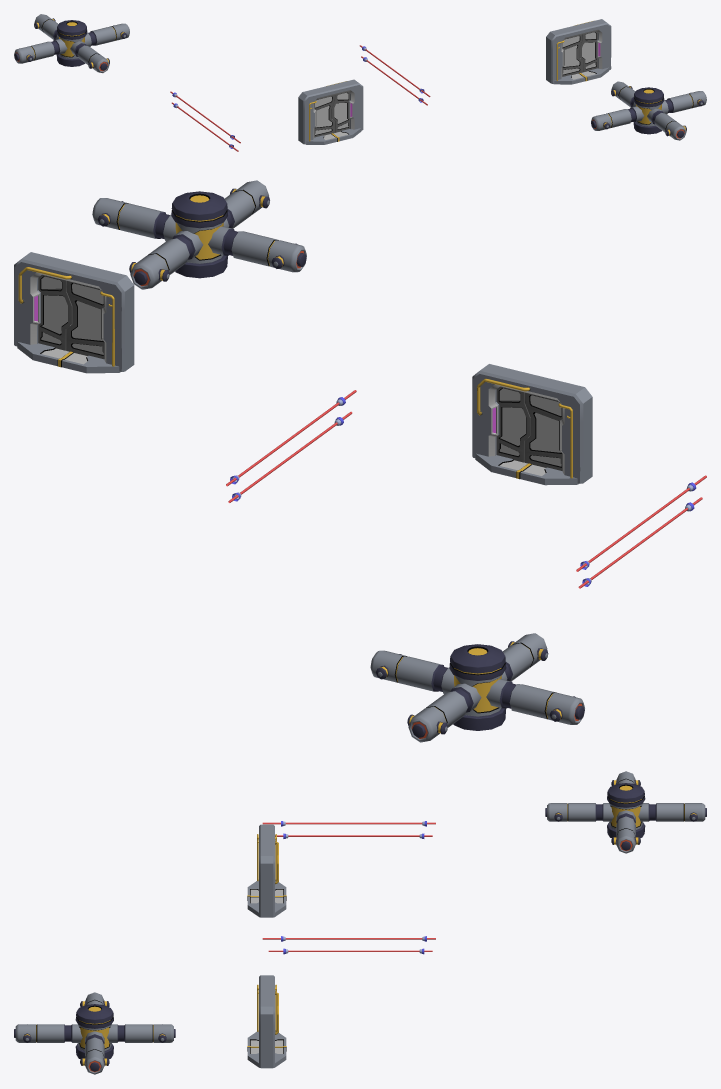
Rendered from Level34_Objects.fbx.
3 views of the same model, one above another, from view 1: azimuth 30°, elevation 25°; view 2: azimuth 150°, elevation 25°; view 3: azimuth 270°, elevation 25° (orthographic). The views are drawn at different scales.
Visible parts, largest first — view 1: pCylinder14 (×8), Base (×2), pCylinder13 (×2), Right (×2), Left (×2), Base5 (×2); view 2: pCylinder14 (×8), Base (×2), pCylinder13 (×2), Right (×2), Left (×2), Base5 (×2); view 3: pCylinder14 (×6), Base (×2), pCylinder13 (×2), Base5 (×2), Laser.
Part boxes in pixels (bbox=[...]): pCylinder14 (×8): bbox=[14, 14, 706, 140]; Base (×2): bbox=[298, 19, 611, 144]; pCylinder13 (×2): bbox=[56, 20, 664, 134]; Right (×2): bbox=[314, 34, 582, 137]; Left (×2): bbox=[331, 31, 597, 132]; Base5 (×2): bbox=[306, 67, 609, 144]; pCylinder14 (×8): bbox=[92, 180, 584, 742]; Base (×2): bbox=[14, 252, 592, 483]; pCylinder13 (×2): bbox=[171, 191, 506, 730]; Right (×2): bbox=[66, 281, 562, 470]; Left (×2): bbox=[38, 274, 530, 462]; Base5 (×2): bbox=[17, 342, 578, 485]; pCylinder14 (×6): bbox=[14, 803, 706, 1074]; Base (×2): bbox=[259, 824, 274, 1068]; pCylinder13 (×2): bbox=[75, 783, 645, 1059]; Base5 (×2): bbox=[247, 880, 286, 1067]; Laser: bbox=[262, 822, 435, 824].
Size of the model in its own units: 433 by 44.01 by 438.
